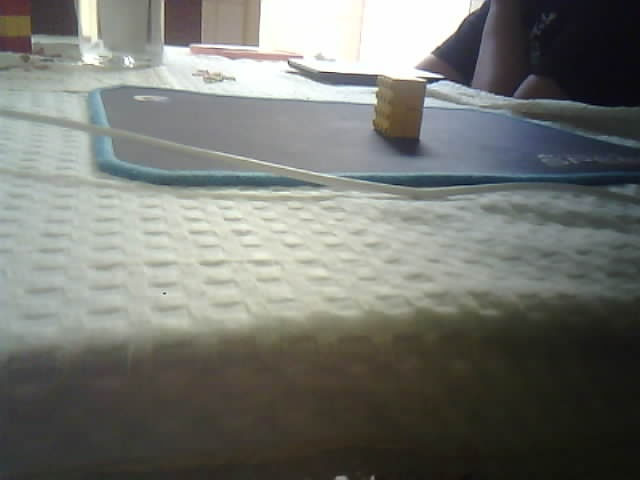lego: (371, 74, 427, 141), (1, 1, 33, 53)
